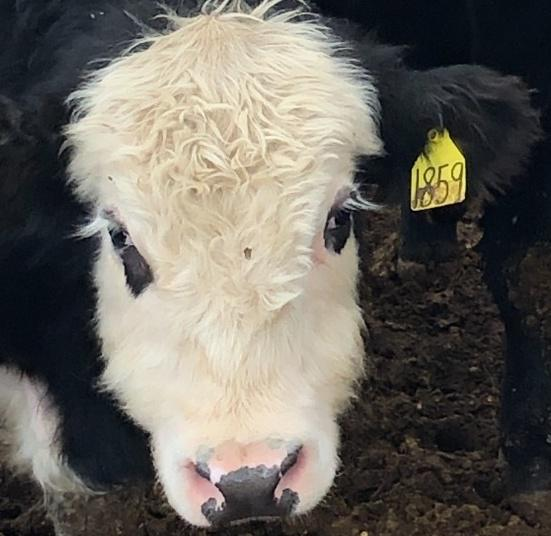muzzles: (155, 438, 346, 530)
